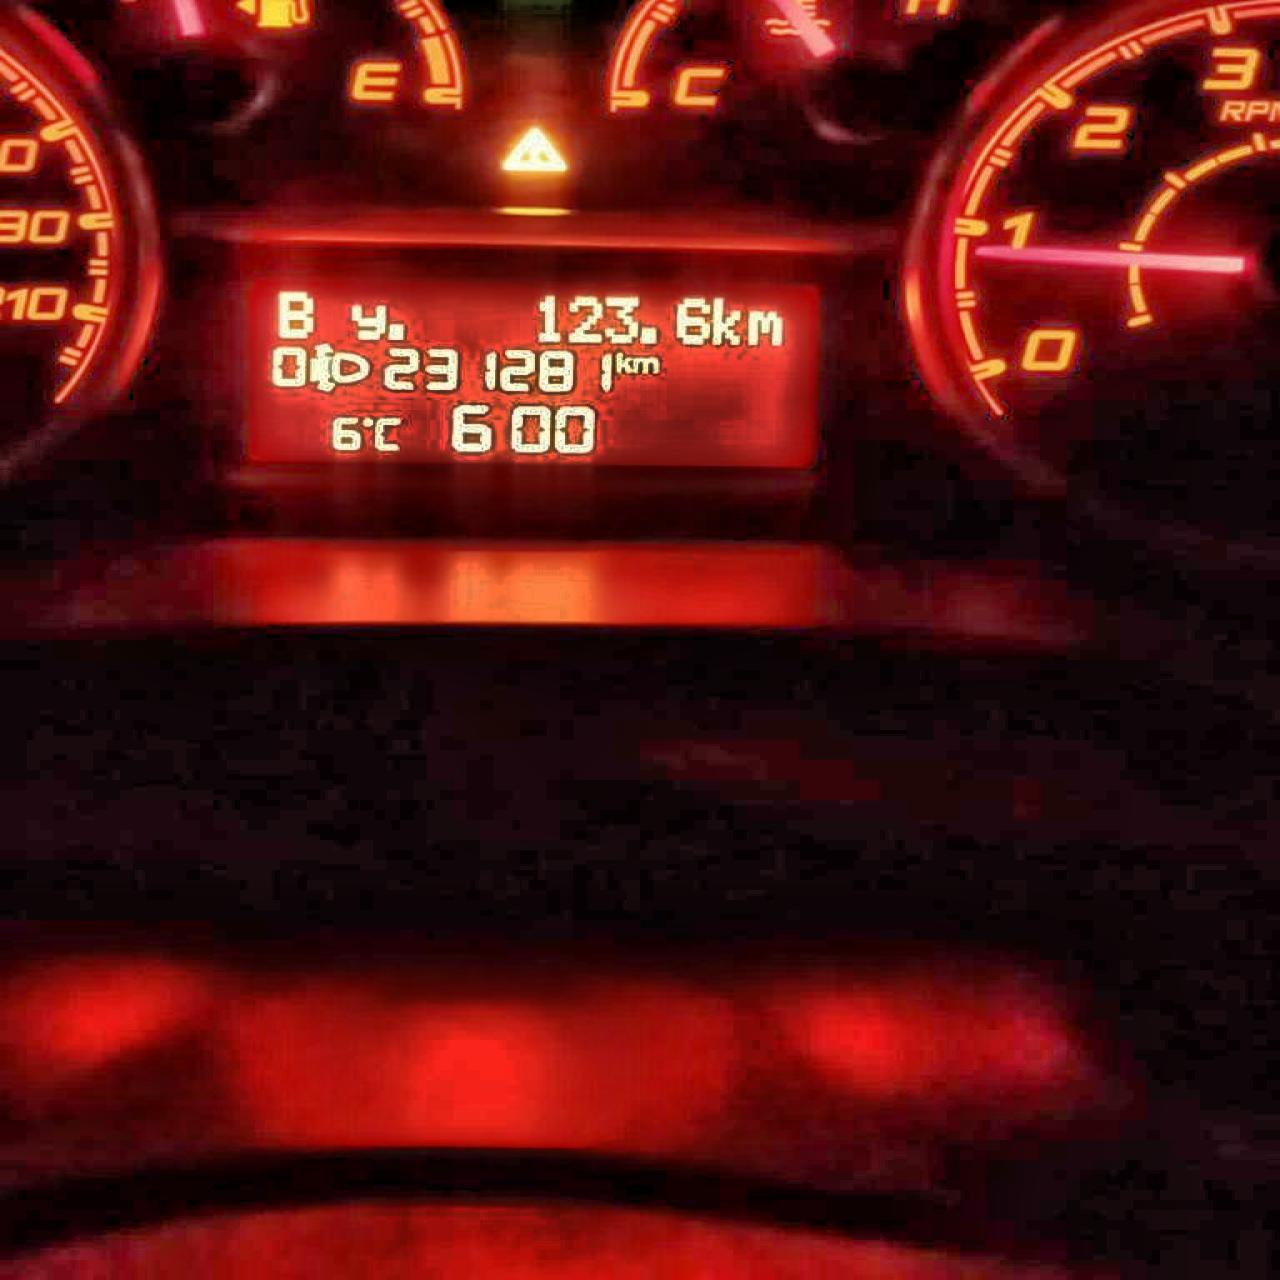-: (636, 324, 656, 345), (384, 321, 403, 340)
0: (551, 406, 597, 455), (509, 403, 552, 452), (271, 345, 307, 387)
1: (533, 292, 561, 342), (479, 349, 498, 390), (597, 352, 613, 394)
2: (565, 293, 604, 342), (380, 347, 420, 392), (498, 347, 533, 392)
3: (601, 294, 640, 343), (422, 346, 458, 389)
6: (447, 402, 491, 452), (673, 295, 712, 345), (328, 415, 362, 451)
8: (535, 347, 576, 393)
X: (273, 290, 315, 339), (710, 295, 742, 346), (743, 307, 783, 347), (348, 302, 387, 340), (372, 415, 402, 452), (629, 355, 660, 374), (613, 352, 629, 373)
odometer: (238, 271, 822, 471)
